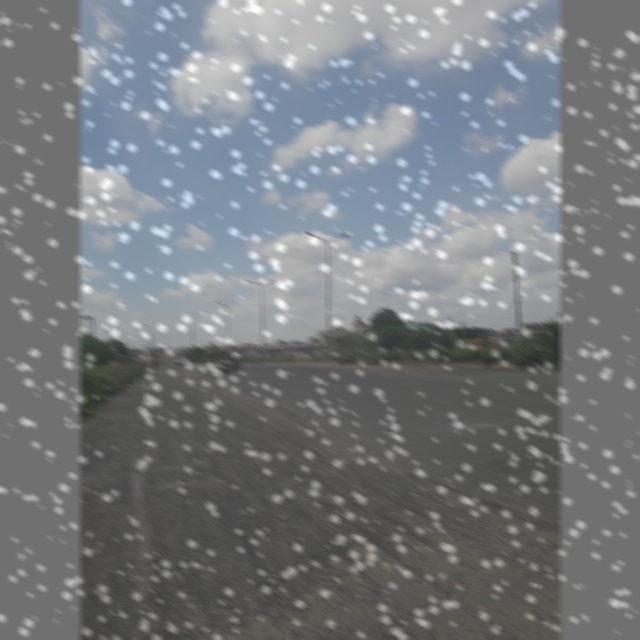Left_Hand_Curve: (350, 312, 368, 329)
